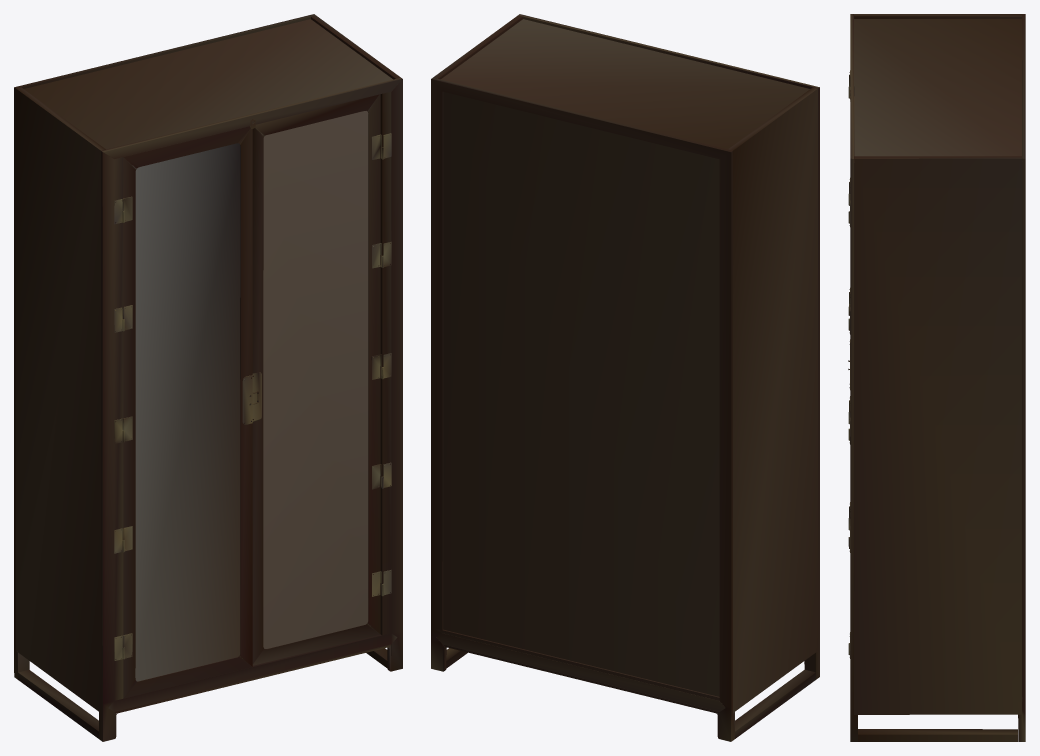
Rendered from unhyun_wardrobe_f66d816f.glb.
3 renders of one model, left to right at view 1: azimuth 30°, elevation 25°; view 2: azimuth 150°, elevation 25°; view 3: azimuth 270°, elevation 25°, orthographic.
Visible parts, largest first — view 1: SM_Unhyun_Wardrobe223_body_M_Wardrobe223_0; view 2: SM_Unhyun_Wardrobe223_body_M_Wardrobe223_0; view 3: SM_Unhyun_Wardrobe223_body_M_Wardrobe223_0.
Boxes of the visible parts, x1,y1,x2,y2 form: SM_Unhyun_Wardrobe223_body_M_Wardrobe223_0: (14,14,402,741); SM_Unhyun_Wardrobe223_body_M_Wardrobe223_0: (431,14,819,741); SM_Unhyun_Wardrobe223_body_M_Wardrobe223_0: (848,14,1025,741).
Size of the model in its own units: 1.03 by 1.92 by 0.5313.
